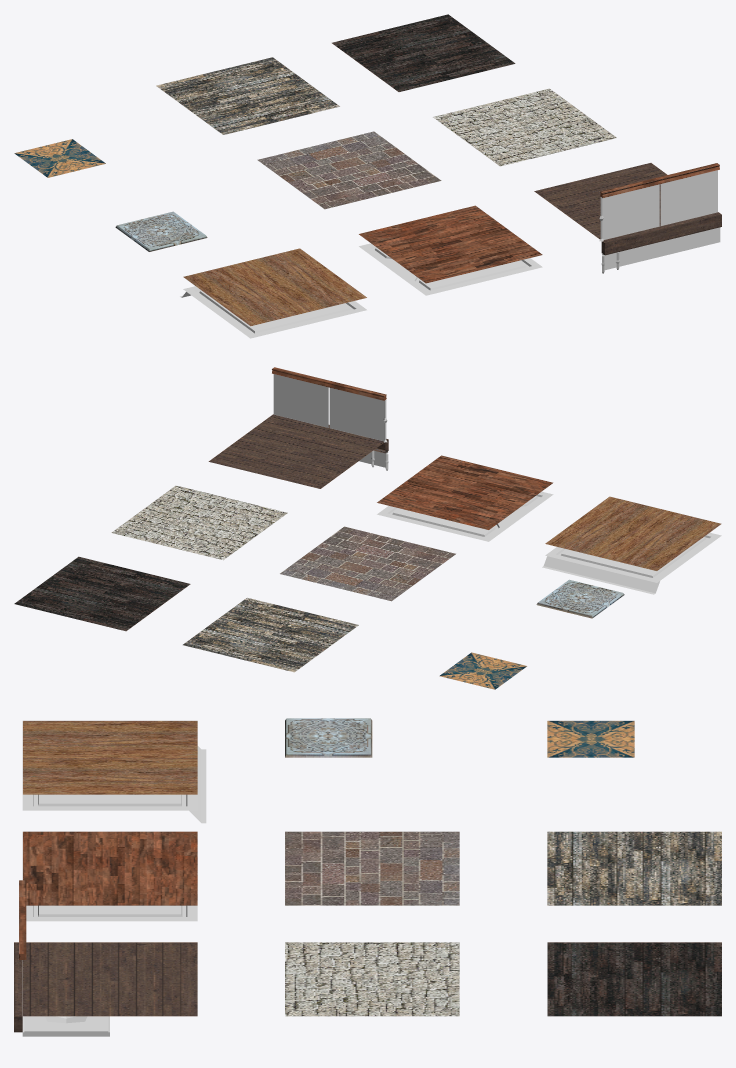
File: AssetsHall.fbx
The picture shows the model from 3 angles, top to bottom: view 1: azimuth 30°, elevation 25°; view 2: azimuth 150°, elevation 25°; view 3: azimuth 270°, elevation 25°; orthographic projection. The views are drawn at different scales.
Visible parts, largest first — view 1: ChaoTijolos, ChaoMadeira, ChaoMadeiraAntiga, ChaoMadeiraAntigaEscura, ChaoMadeiraTabuas, ParedePedra, Parapeito, ChaoMadeiraEscura, Teto2, Teto1, ChapDecorado1, ChaoDecorado2 (+2 smaller); view 2: ChaoMadeiraTabuas, ChaoMadeira, ChaoMadeiraAntigaEscura, ChaoTijolos, ChaoMadeiraEscura, ParedePedra, ChaoMadeiraAntiga, Parapeito, Teto2, Teto1, ChapDecorado1, ChaoDecorado2 (+1 smaller); view 3: ChaoMadeira, ChaoMadeiraEscura, ChaoMadeiraAntiga, ChaoMadeiraAntigaEscura, ChaoTijolos, ParedePedra, ChaoMadeiraTabuas, ChapDecorado1, ChaoDecorado2, Teto1, Teto2, Teto3 (+3 smaller).
Boxes of the visible parts, bbox=[...] form: ChaoTijolos: bbox=[257, 131, 441, 209]; ChaoMadeira: bbox=[183, 248, 366, 326]; ChaoMadeiraAntiga: bbox=[156, 57, 339, 134]; ChaoMadeiraAntigaEscura: bbox=[332, 14, 515, 92]; ChaoMadeiraTabuas: bbox=[359, 205, 542, 283]; ParedePedra: bbox=[433, 88, 616, 166]; Parapeito: bbox=[600, 163, 719, 239]; ChaoMadeiraEscura: bbox=[534, 163, 718, 239]; Teto2: bbox=[359, 243, 542, 295]; Teto1: bbox=[183, 286, 366, 338]; ChapDecorado1: bbox=[115, 211, 207, 251]; ChaoDecorado2: bbox=[14, 139, 105, 177]; ChaoMadeiraTabuas: bbox=[377, 455, 553, 529]; ChaoMadeira: bbox=[545, 496, 721, 570]; ChaoMadeiraAntigaEscura: bbox=[14, 556, 190, 631]; ChaoTijolos: bbox=[280, 526, 455, 601]; ChaoMadeiraEscura: bbox=[208, 414, 383, 488]; ParedePedra: bbox=[111, 485, 287, 560]; ChaoMadeiraAntiga: bbox=[183, 597, 358, 672]; Parapeito: bbox=[272, 367, 386, 440]; Teto2: bbox=[377, 491, 553, 541]; Teto1: bbox=[545, 532, 721, 582]; ChapDecorado1: bbox=[536, 579, 624, 618]; ChaoDecorado2: bbox=[439, 652, 527, 689]; ChaoMadeira: bbox=[22, 720, 197, 794]; ChaoMadeiraEscura: bbox=[22, 942, 197, 1016]; ChaoMadeiraAntiga: bbox=[547, 831, 721, 905]; ChaoMadeiraAntigaEscura: bbox=[547, 942, 721, 1016]; ChaoTijolos: bbox=[285, 831, 459, 905]; ParedePedra: bbox=[285, 942, 459, 1016]; ChaoMadeiraTabuas: bbox=[22, 831, 197, 905]; ChapDecorado1: bbox=[285, 718, 372, 757]; ChaoDecorado2: bbox=[547, 720, 634, 757]; Teto1: bbox=[22, 794, 197, 810]; Teto2: bbox=[26, 905, 197, 921]; Teto3: bbox=[22, 1016, 109, 1036].
Bounding box in the file's own units: 8 × 1.3 × 8.1.
